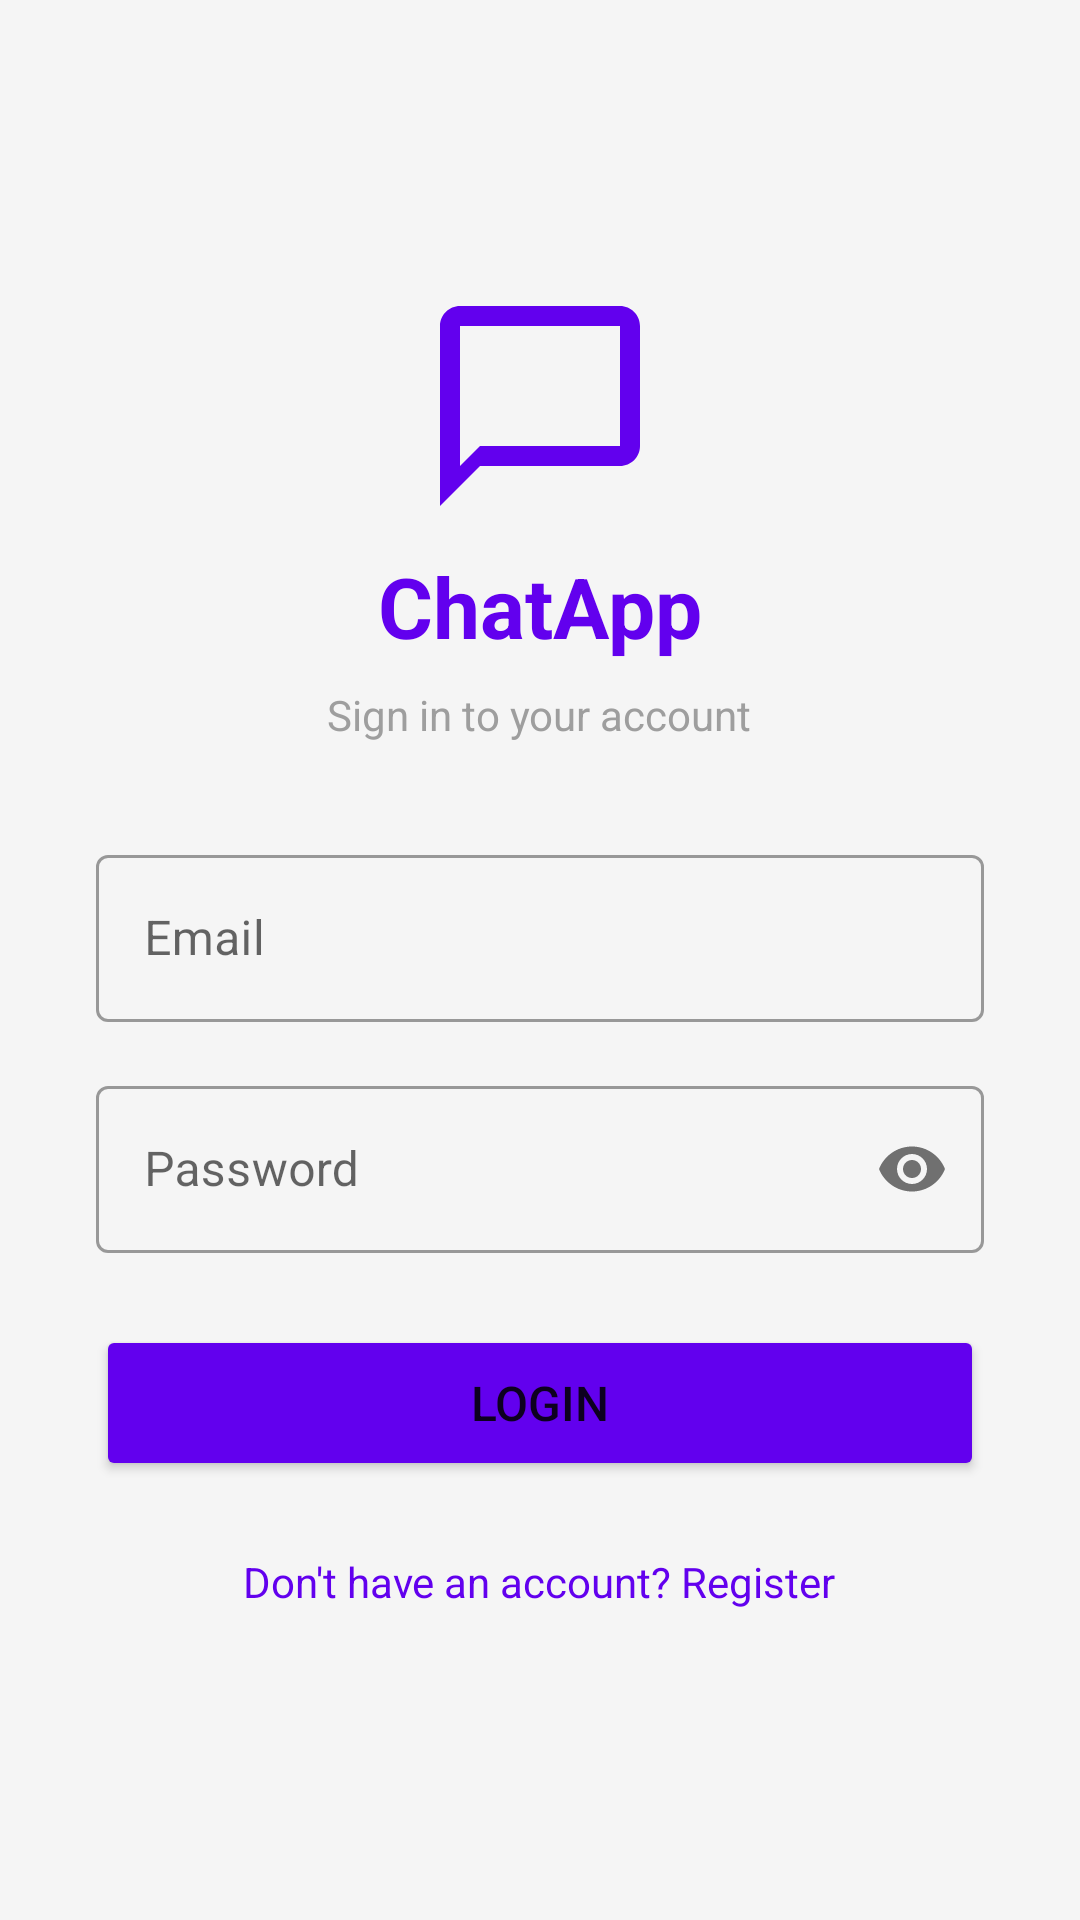

Screen size 1080 × 1920. Icon name, then its box in pixels as [x1,y1,x2,y2]:
chat bubble: [440,306,640,506]
